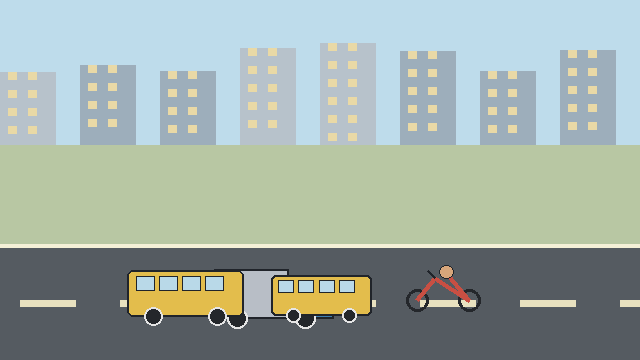bus: (127, 270, 243, 325), (271, 275, 371, 322)
motorcycle: (406, 265, 480, 311)
truck: (214, 269, 333, 328)
